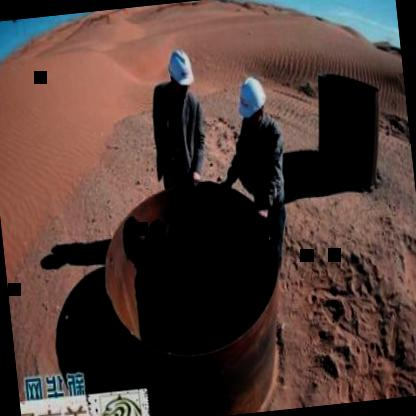helmet: (233, 74, 270, 132), (163, 40, 196, 102)
